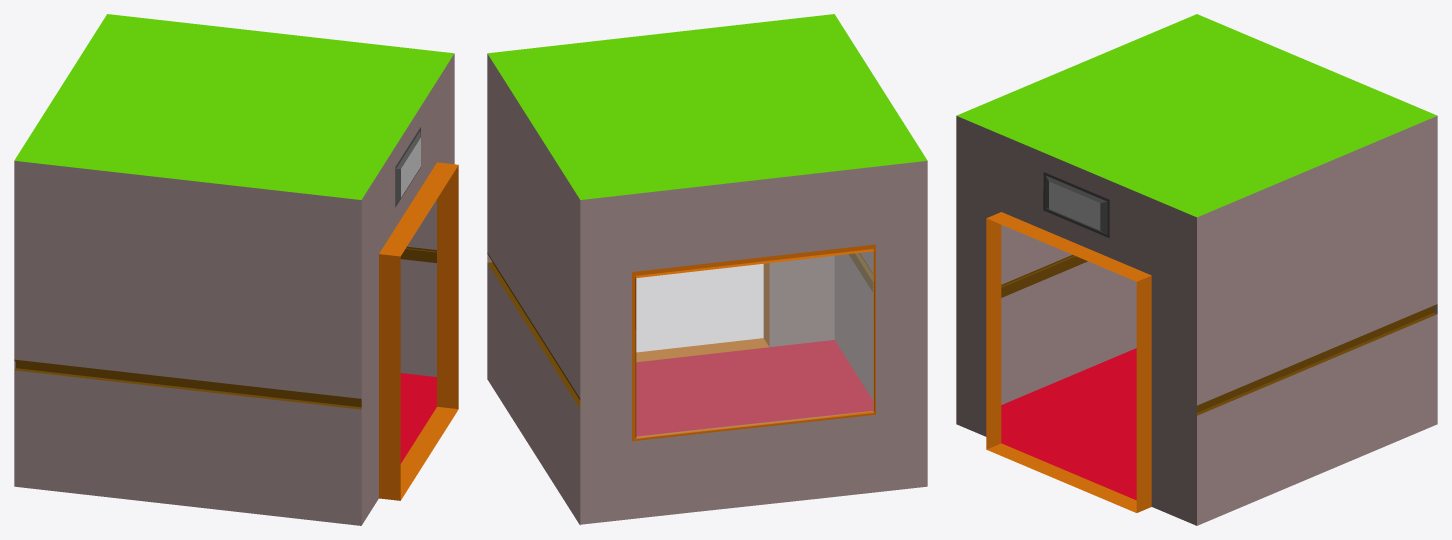
The model's file is Lift_v4.4.fbx.
3 views of the same model, side by side, from view 1: azimuth 30°, elevation 25°; view 2: azimuth 150°, elevation 25°; view 3: azimuth 270°, elevation 25° (orthographic). The views are drawn at different scales.
Visible parts, largest first — view 1: pPlane2; view 2: pPlane2; view 3: pPlane2.
Part boxes in pixels (x1,y1,x2,y2): pPlane2: (14, 14, 458, 525); pPlane2: (487, 14, 927, 525); pPlane2: (956, 14, 1437, 525).
Bounding box in the file's own units: 566 × 400 × 566.
